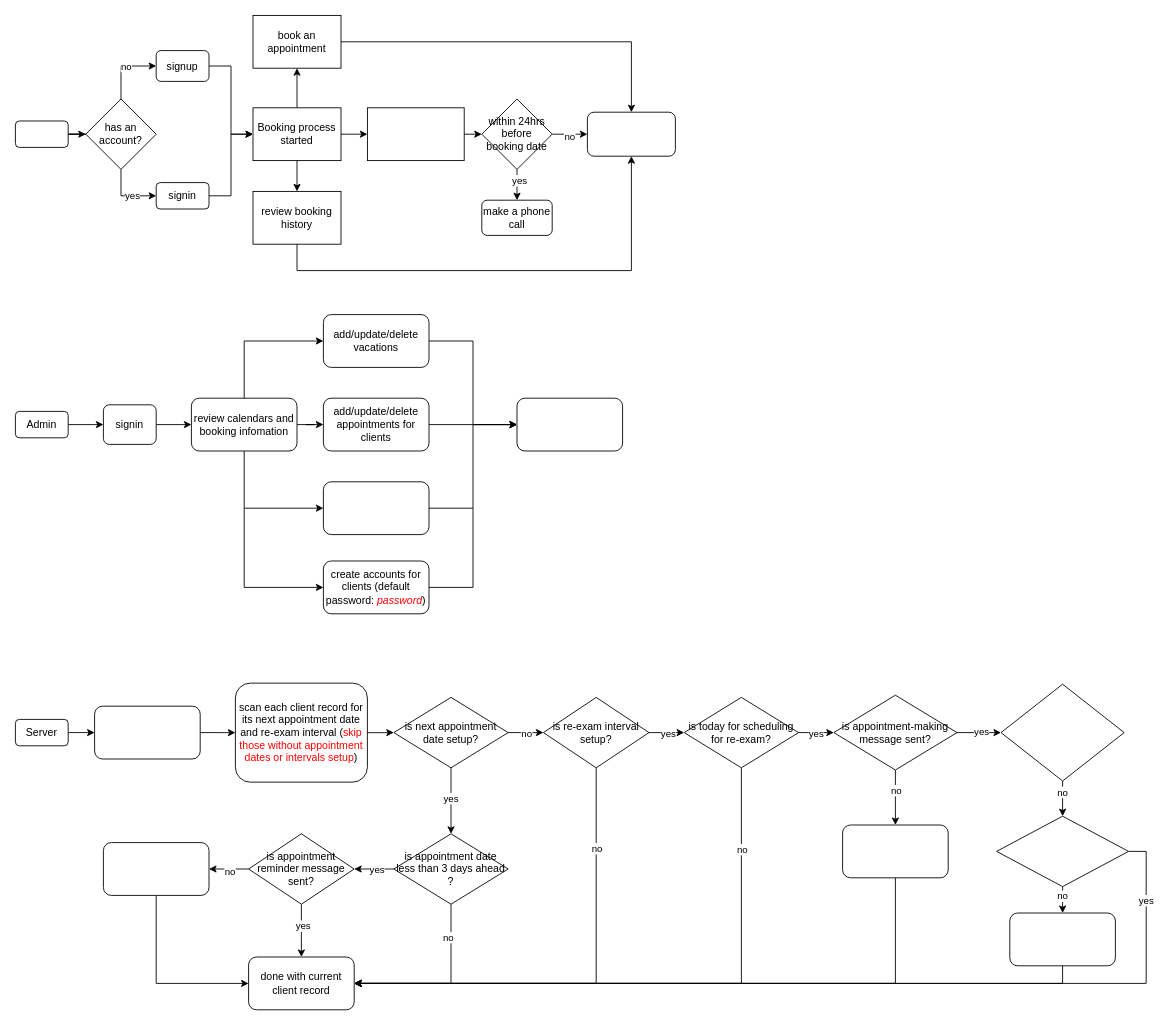
Image size: 1169x1025. Some labels were removed from this diagram. Here are the shapes that lost their labels. From the top down, the box of each, then its label:
(15, 120, 68, 147): client
(367, 107, 464, 161): update/delete an appointment
(587, 111, 675, 156): booking process ended
(516, 397, 623, 451): signout
(323, 481, 429, 535): setup re-examination intervals for clients
(94, 705, 200, 759): run a scheduled function (e.g 8:00am each day)
(1000, 683, 1124, 781): is new appointment made within 7 days after appointment-making message?
(103, 842, 209, 895): send appointment reminder message
(842, 824, 948, 878): send appointment-making message
(996, 815, 1129, 887): is no-appointment-made message sent?
(1009, 912, 1115, 966): send no-appointment-made by this client message to admin
